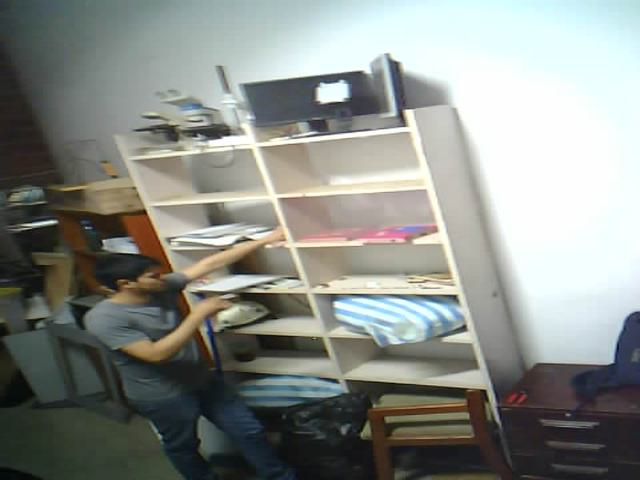person: (64, 185, 303, 480)
